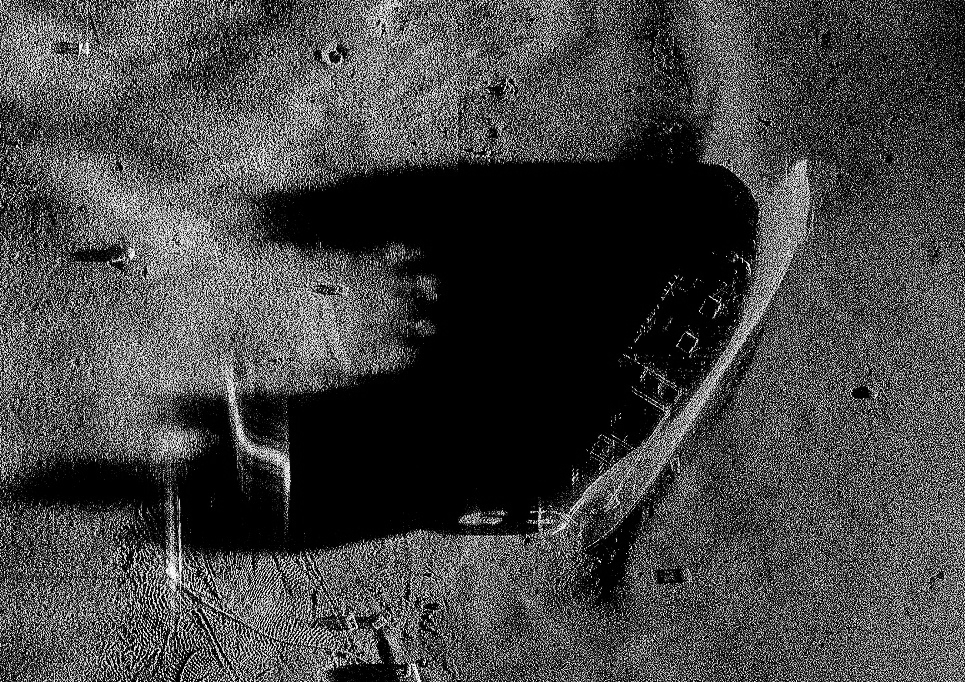ship: (560, 164, 813, 547)
